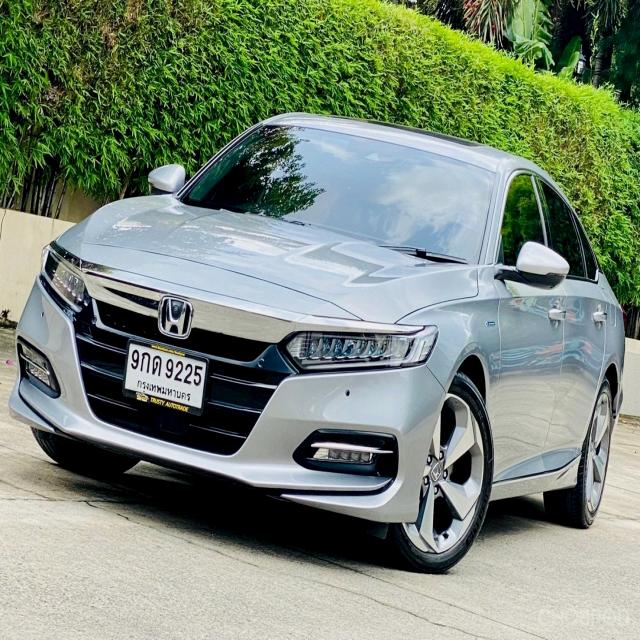license_plate: (120, 330, 212, 428)
